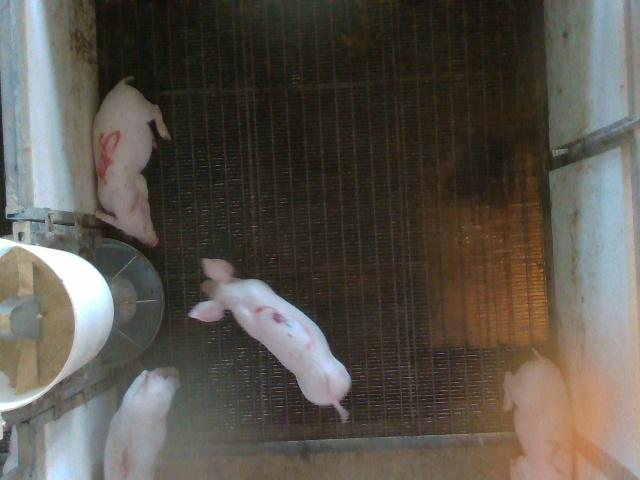pig-1: (104, 368, 180, 479)
pig-2: (504, 352, 571, 478)
pig-3: (189, 259, 351, 422)
pig-5: (94, 76, 170, 246)
